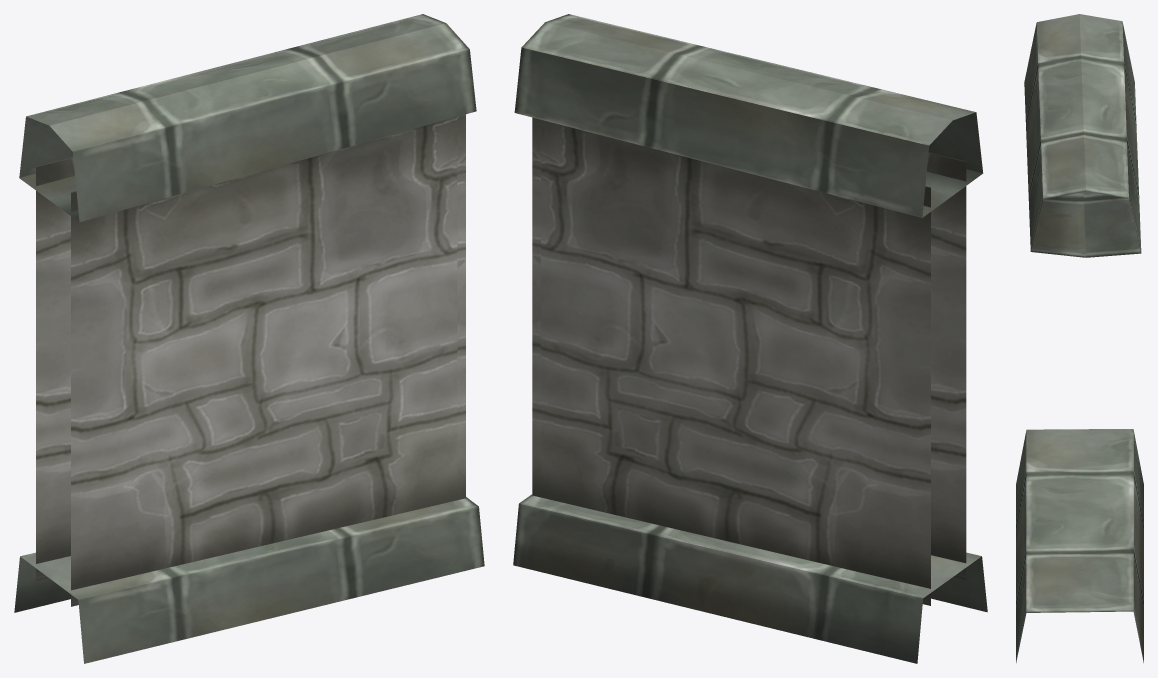
File: wall_01_end_02.fbx
3 renders of one model, left to right at view 1: azimuth 30°, elevation 25°; view 2: azimuth 150°, elevation 25°; view 3: azimuth 270°, elevation 25°, orthographic. The views are drawn at different scales.
Visible parts, largest first — view 1: wall_01_end_02:Mesh; view 2: wall_01_end_02:Mesh; view 3: wall_01_end_02:Mesh.
Boxes of the visible parts, left/top/right/bottom form: wall_01_end_02:Mesh: left=14, top=14, right=484, bottom=663; wall_01_end_02:Mesh: left=513, top=14, right=987, bottom=663; wall_01_end_02:Mesh: left=1016, top=14, right=1143, bottom=662.
Bounding box in the file's own units: 2.02 × 2.48 × 0.6094.
